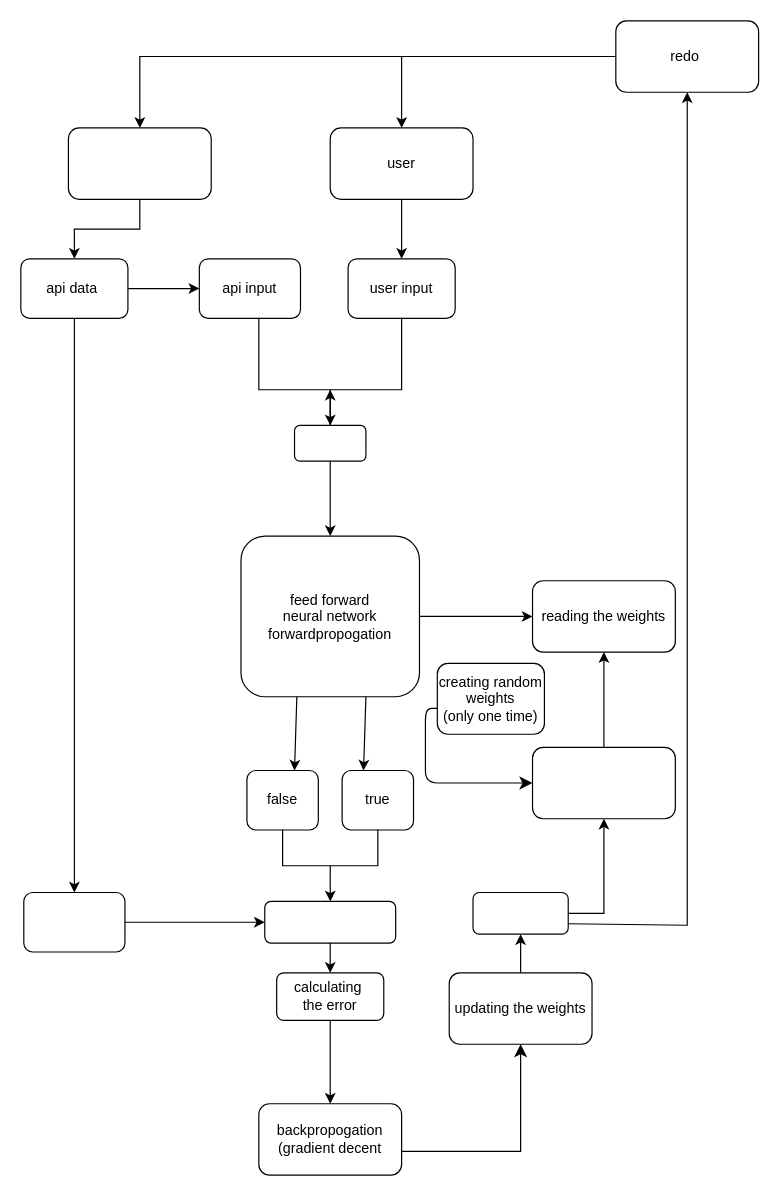
This 779x1196 diagram has some shape labels left out. The shapes that lost their labels are listed below. From the top down, each one's centre as x and y in pixels, then its label:
(139,163): stocks api
(329,442): input
(603,782): weights file
(74,921): api dataset
(330,921): compare to API dataset
(520,912): upload the weights
